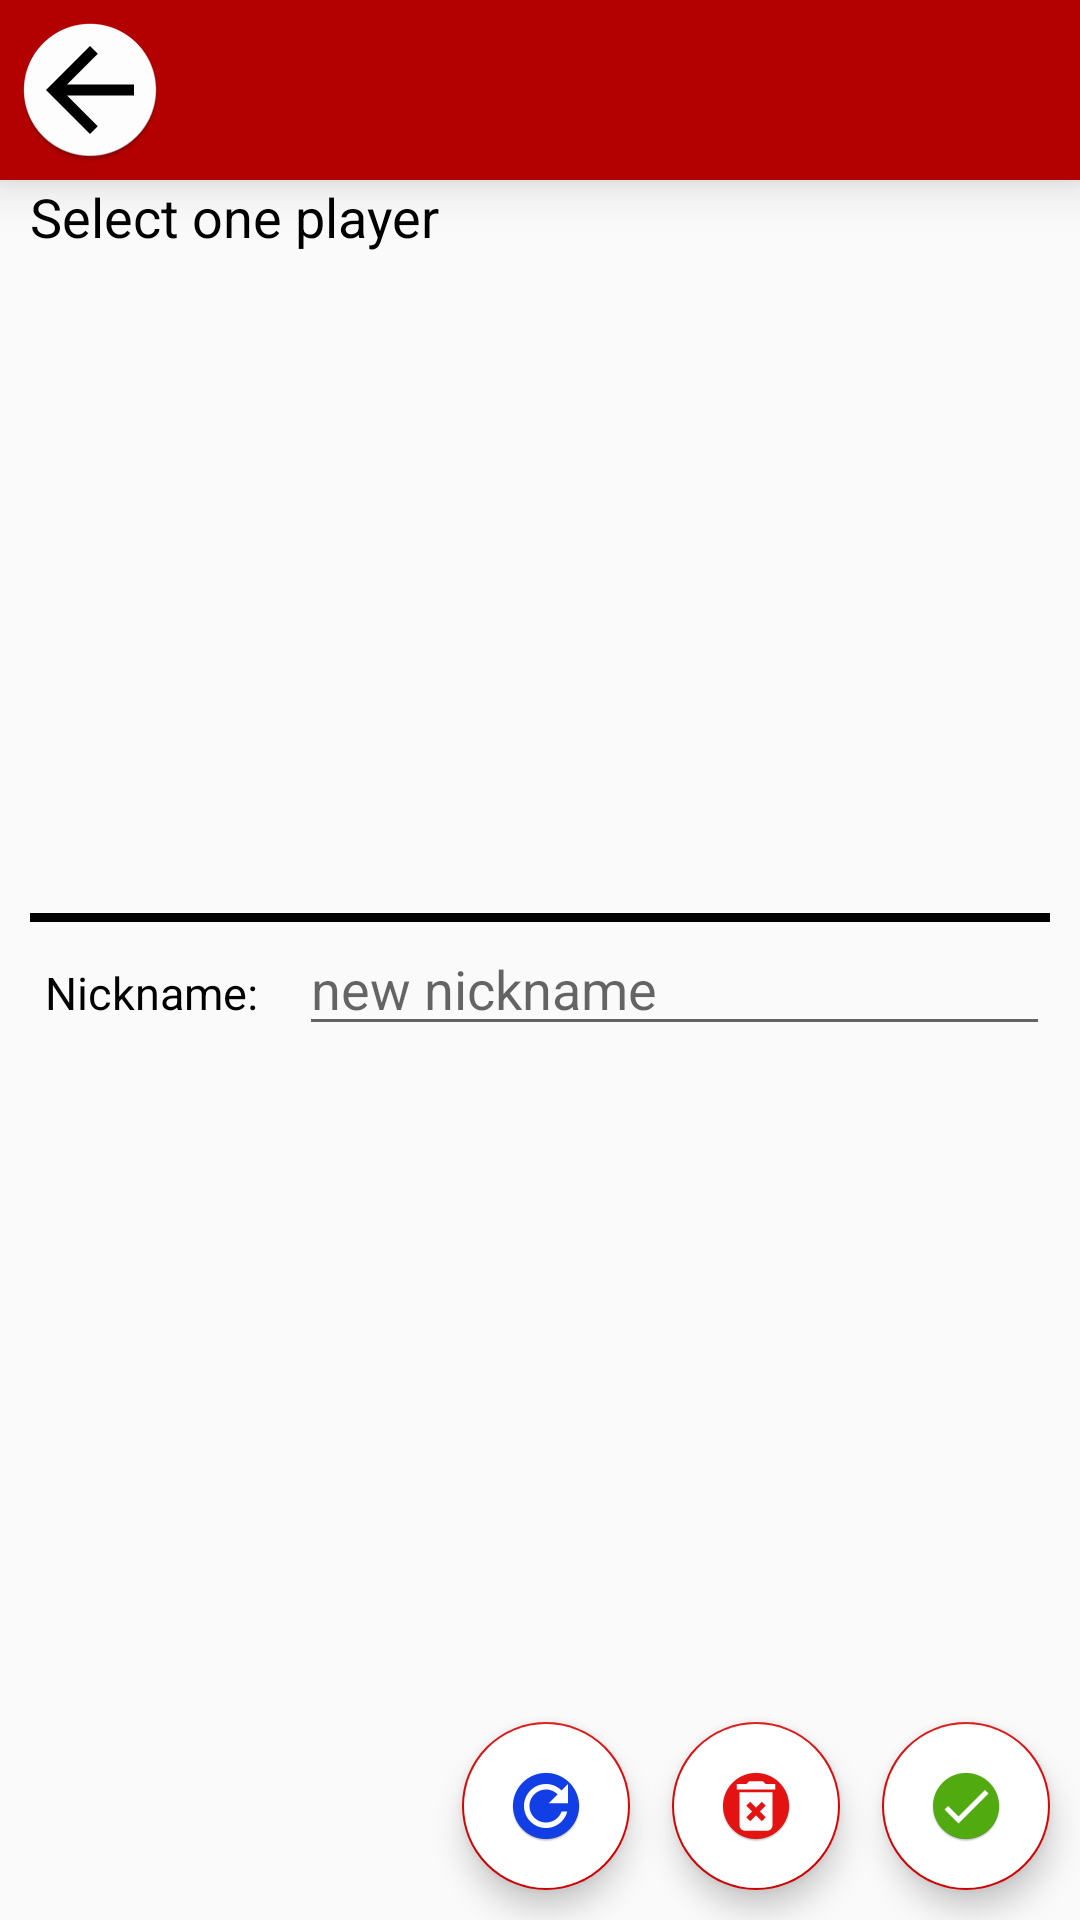

Named icons in this screenshot (1080 x 1920) and their centers, [x,y]:
back: [90,91]
confirm: [966,1807]
deletee: [756,1806]
update: [546,1807]
